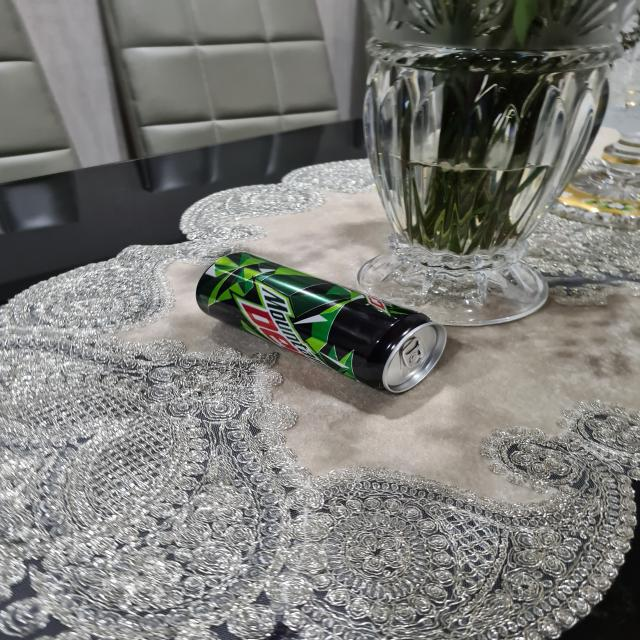non-organic waste: (194, 248, 453, 399)
